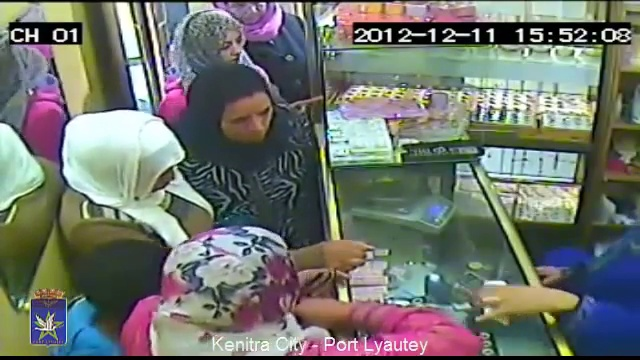face: (223, 99, 273, 144), (214, 23, 247, 64)
